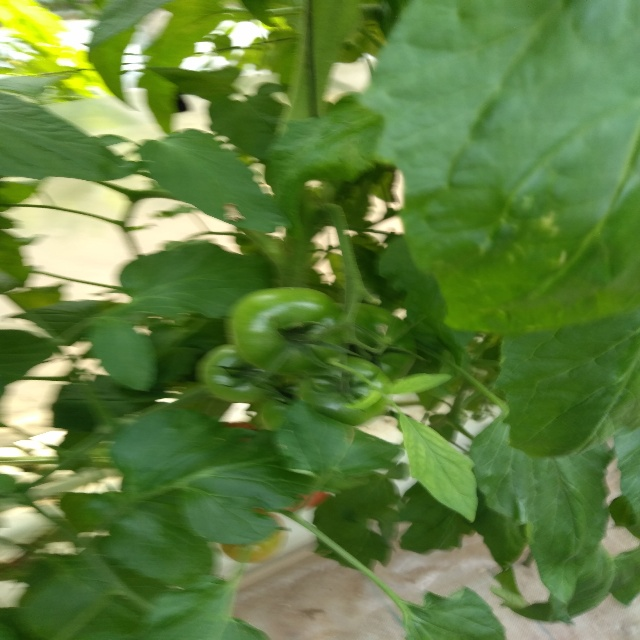b_green: (229, 286, 347, 377), (338, 302, 419, 386), (300, 355, 393, 428), (201, 344, 281, 402)
